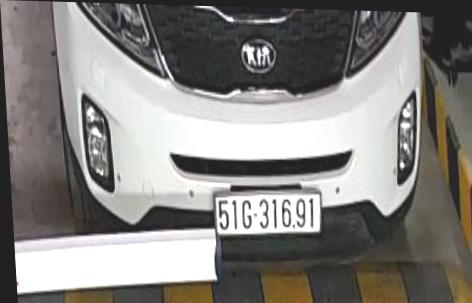License_Plate: (211, 189, 322, 237)
